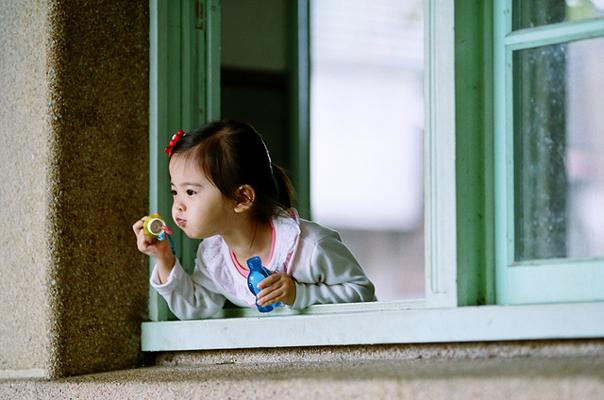person: (135, 119, 376, 324)
